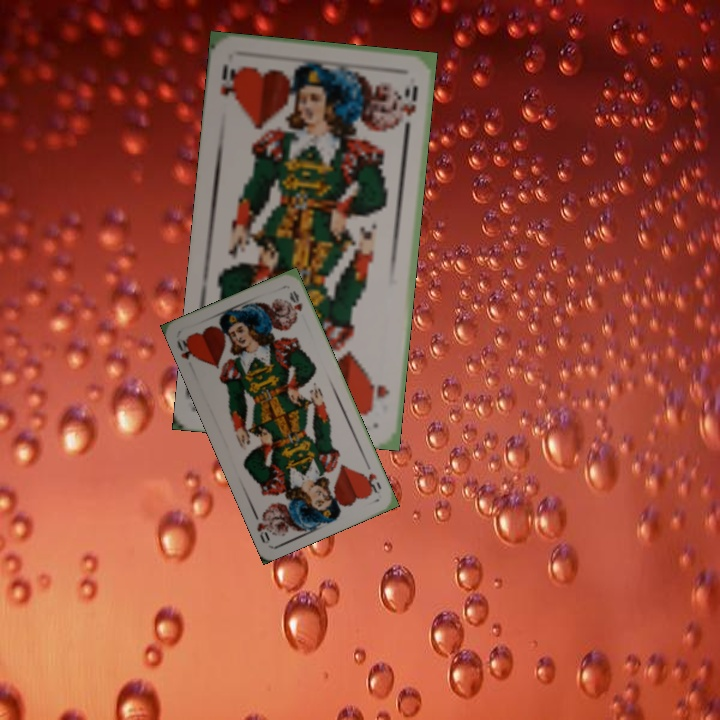HO: (359, 458, 384, 497), (216, 60, 239, 102), (367, 381, 393, 415), (173, 333, 199, 362)
